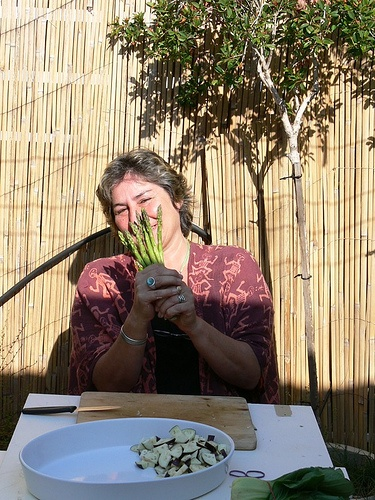person: (71, 151, 276, 401)
person/hand: (131, 265, 183, 322), (156, 284, 198, 333)
person/head: (110, 150, 184, 251)
